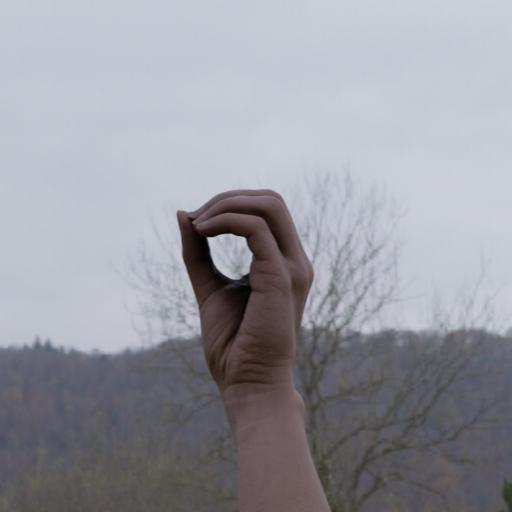O: (148, 149, 322, 392)
